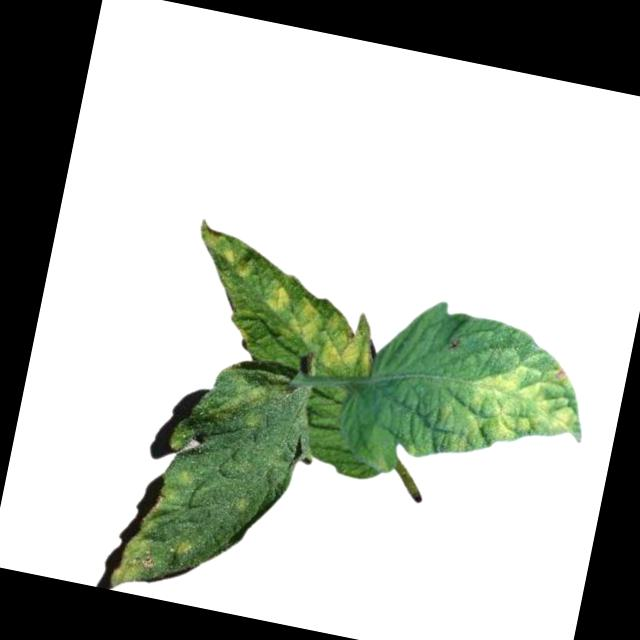Leaf_Mold: (436, 333, 599, 481), (105, 462, 207, 604), (252, 275, 385, 383), (191, 219, 264, 282)
